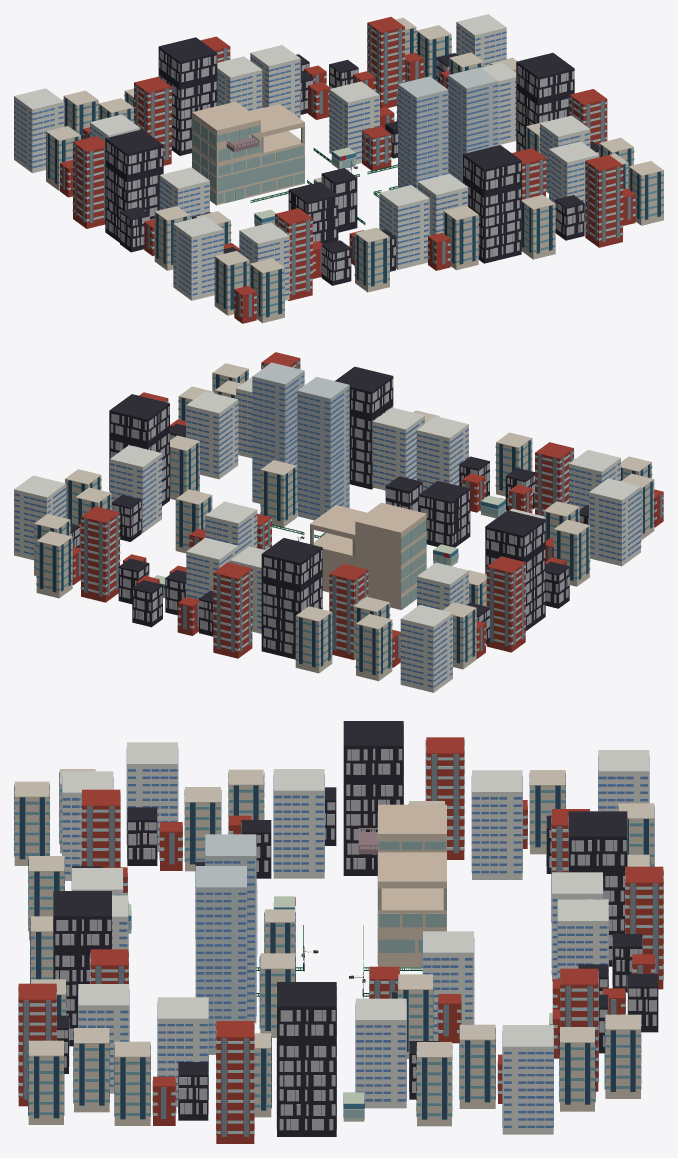
The model's file is level5 buliding.fbx.
3 views of the same model, one above another, from view 1: azimuth 30°, elevation 25°; view 2: azimuth 150°, elevation 25°; view 3: azimuth 270°, elevation 25° (orthographic). The views are drawn at different scales.
Visible parts, largest first — view 1: building; view 2: building; view 3: building.
Boxes of the visible parts, x1,y1,x2,y2 form: building: (14, 14, 663, 323); building: (14, 352, 663, 692); building: (14, 721, 663, 1143).
Size of the model in its own units: 54028 by 14751 by 48740.
